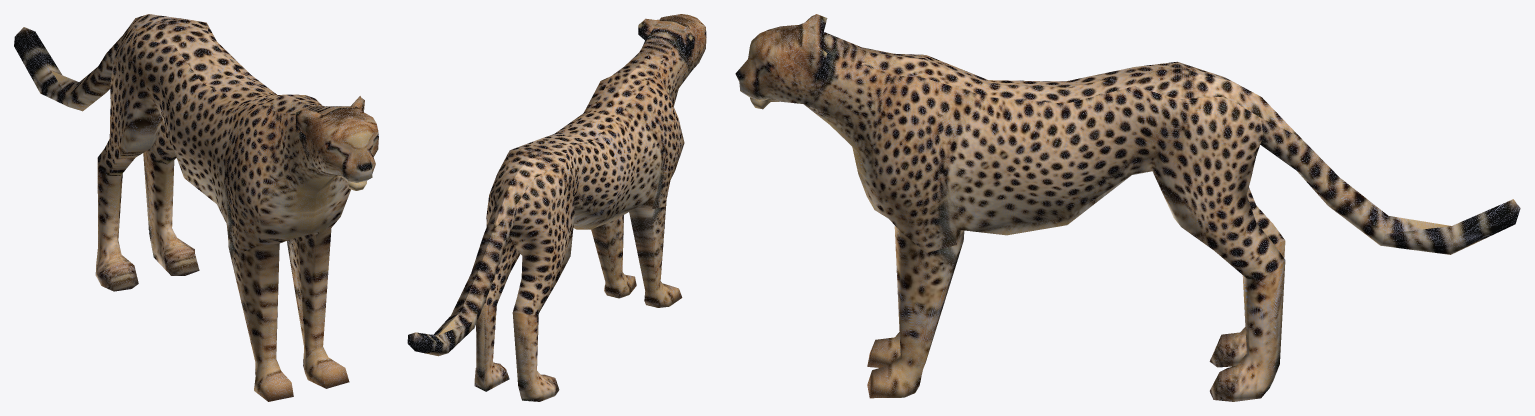
The model's file is cheetah.dae.
3 views of the same model, side by side, from view 1: azimuth 30°, elevation 25°; view 2: azimuth 150°, elevation 25°; view 3: azimuth 270°, elevation 25° (orthographic). The views are drawn at different scales.
Parts seen in each view (by area): view 1: Cheetah (×3); view 2: Cheetah (×2); view 3: Cheetah (×2).
Part boxes in pixels (x1,y1,x2,y2): Cheetah (×3): [14, 14, 378, 401]; Cheetah (×2): [407, 14, 706, 401]; Cheetah (×2): [735, 14, 1520, 401].
Bounding box in the file's own units: 13.77 × 77.32 × 37.71.
Materials: 2 (1 with a texture image).
